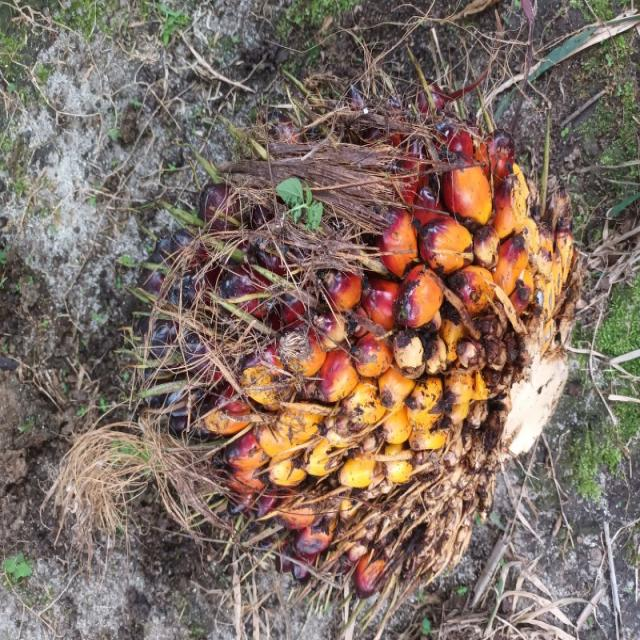fraksi 1: (22, 113, 397, 640)
